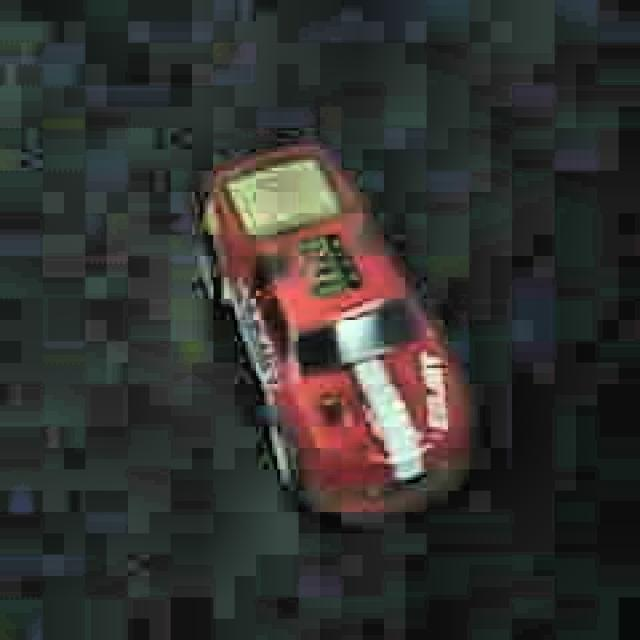car: (190, 132, 479, 521)
